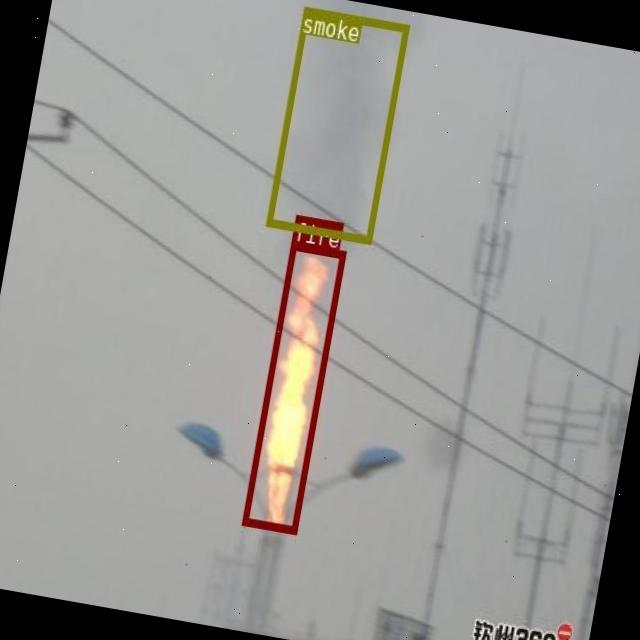fire: (240, 242, 344, 532)
smoke: (266, 6, 409, 242)
